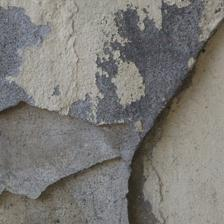Crack: (123, 19, 223, 222), (2, 96, 134, 140), (5, 156, 119, 201)
